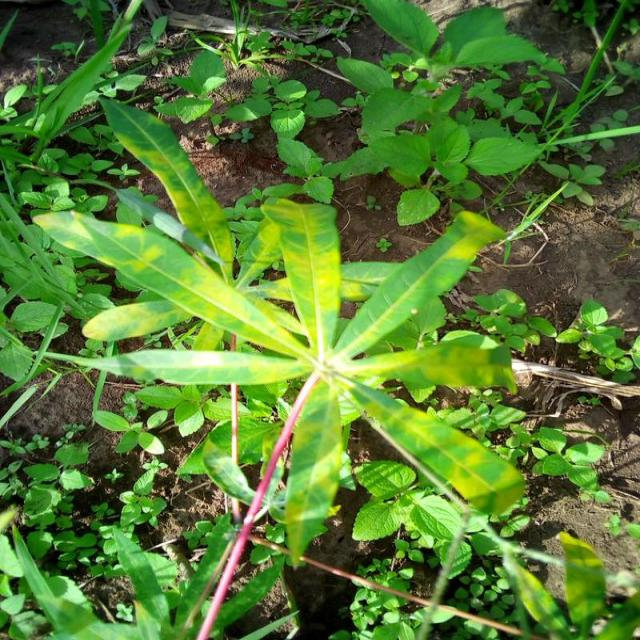cassava leaf: (31, 94, 526, 564)
